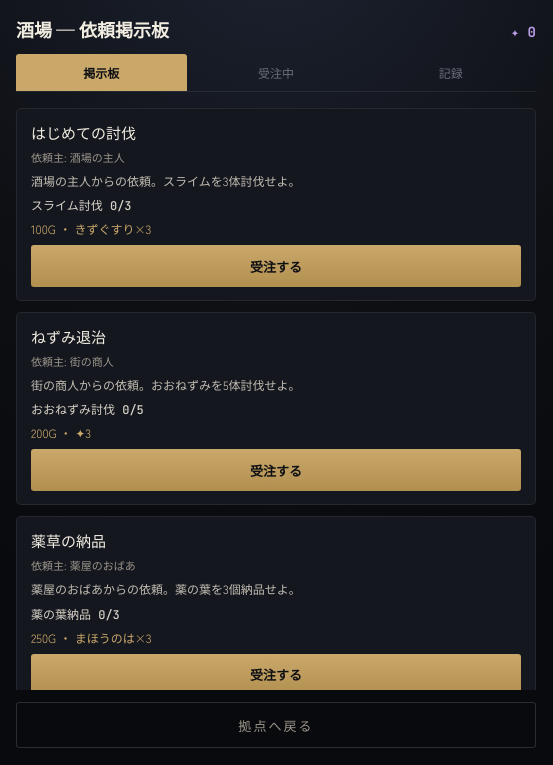
Test case: TavernPage › 受注する → 受注中表示に変わり、受注中タブに進捗バー付きカードが現れる
Click the button "受注する" below "100G ・ きずぐすり×3". click: (276, 266)
box: top-left (31, 245), bottom-right (521, 287)
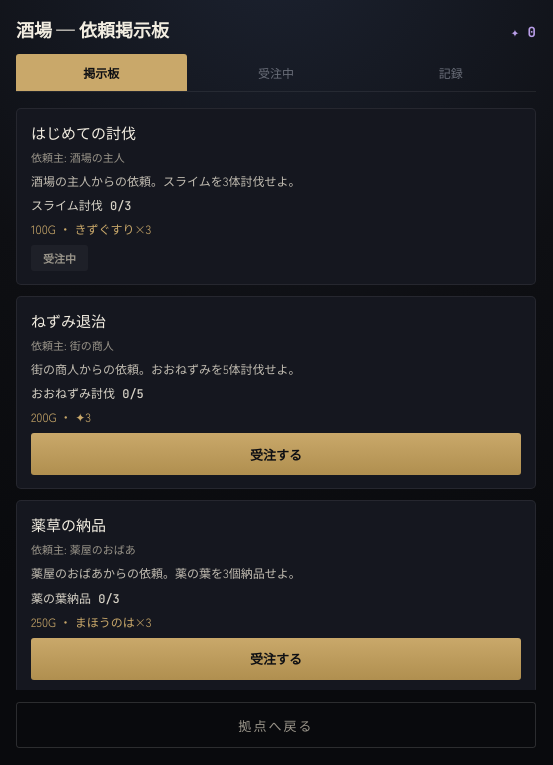
Expected: the text "受注中" is shown, top-left (31, 245), bottom-right (88, 271)
Click the button "受注中". click: (276, 72)
box: top-left (191, 54), bottom-right (361, 91)
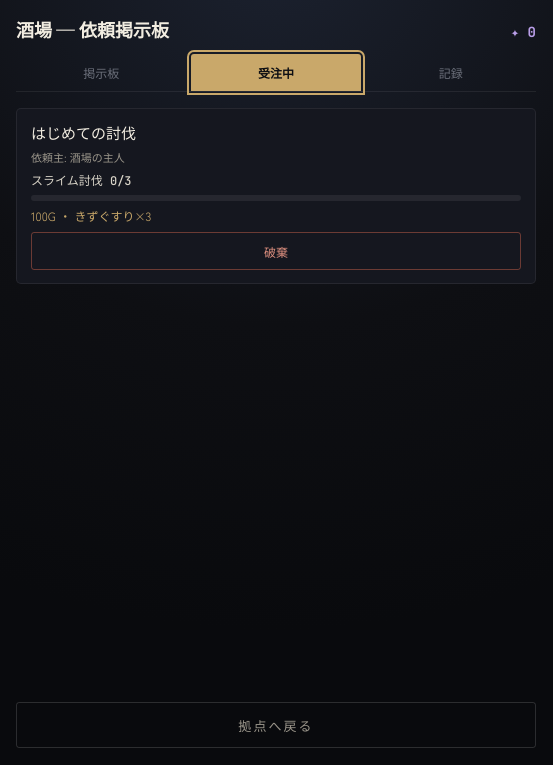
Expected: the text "スライム討伐 0/3" is shown, top-left (31, 173), bottom-right (132, 189)
Expected: the button "破棄" is shown, top-left (31, 232), bottom-right (521, 270)
